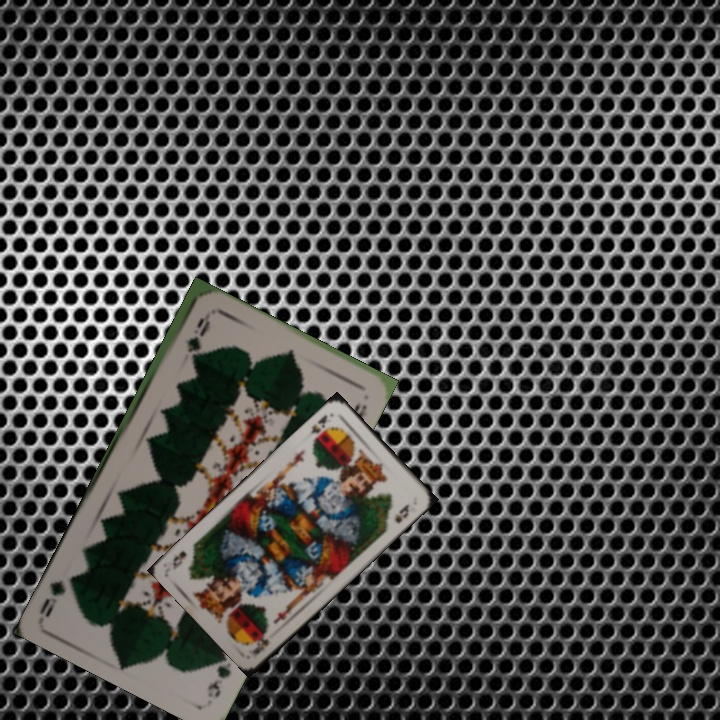G9: (203, 646, 234, 701), (182, 310, 211, 356)
SK: (306, 409, 336, 444), (249, 631, 272, 658)
